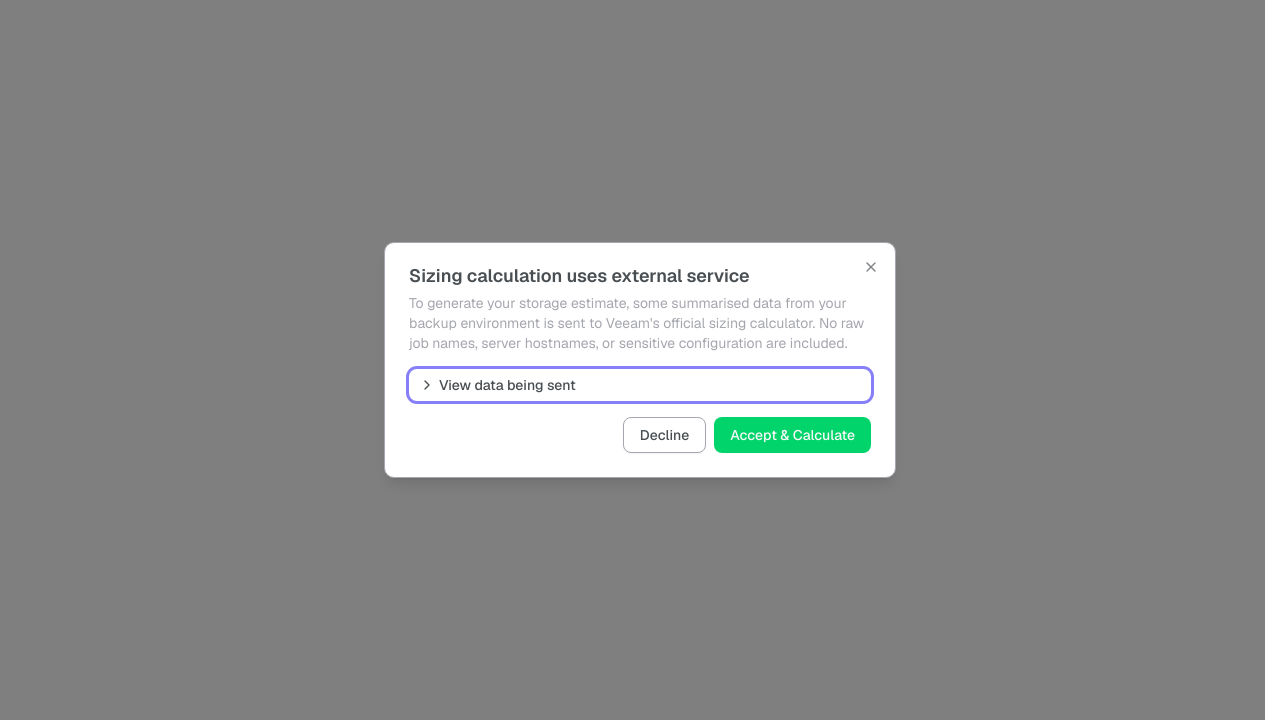
Scenario: CalculatorConsentDialog › shows 'None configured' for GFS when all three are null
Click the button "View data being sent": {"x": 507, "y": 385} [409, 369, 871, 401]
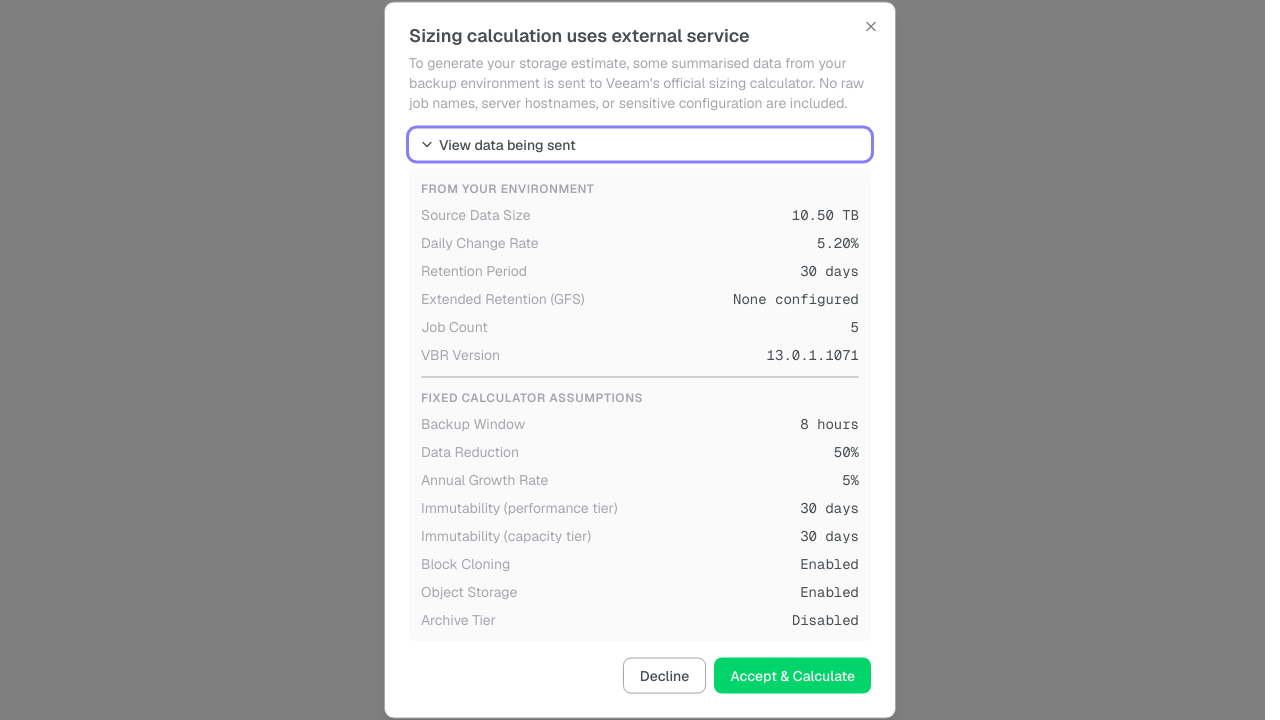
Check: the text "None configured" is shown, box [733, 288, 859, 308]
